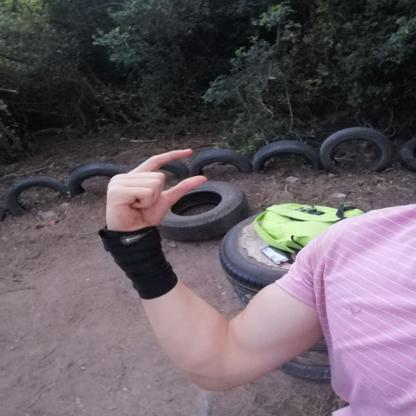DELL: (96, 143, 213, 236)
